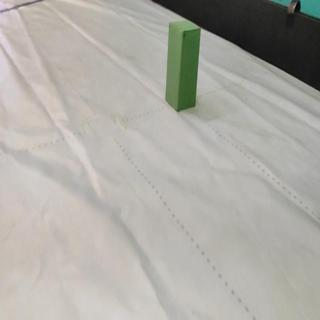greenbox: (164, 20, 202, 113)
